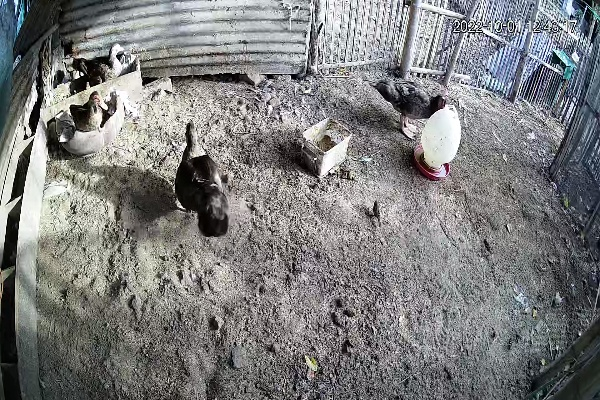Entog: (169, 116, 234, 243), (368, 70, 452, 141)
